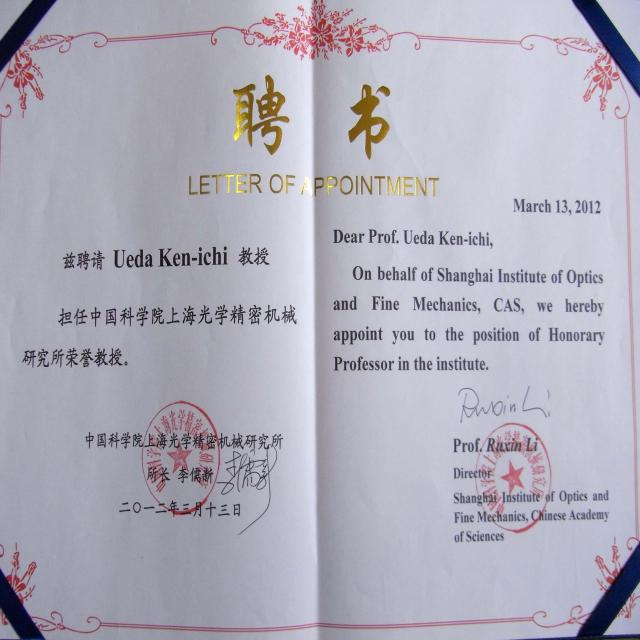signature: (457, 381, 553, 424)
